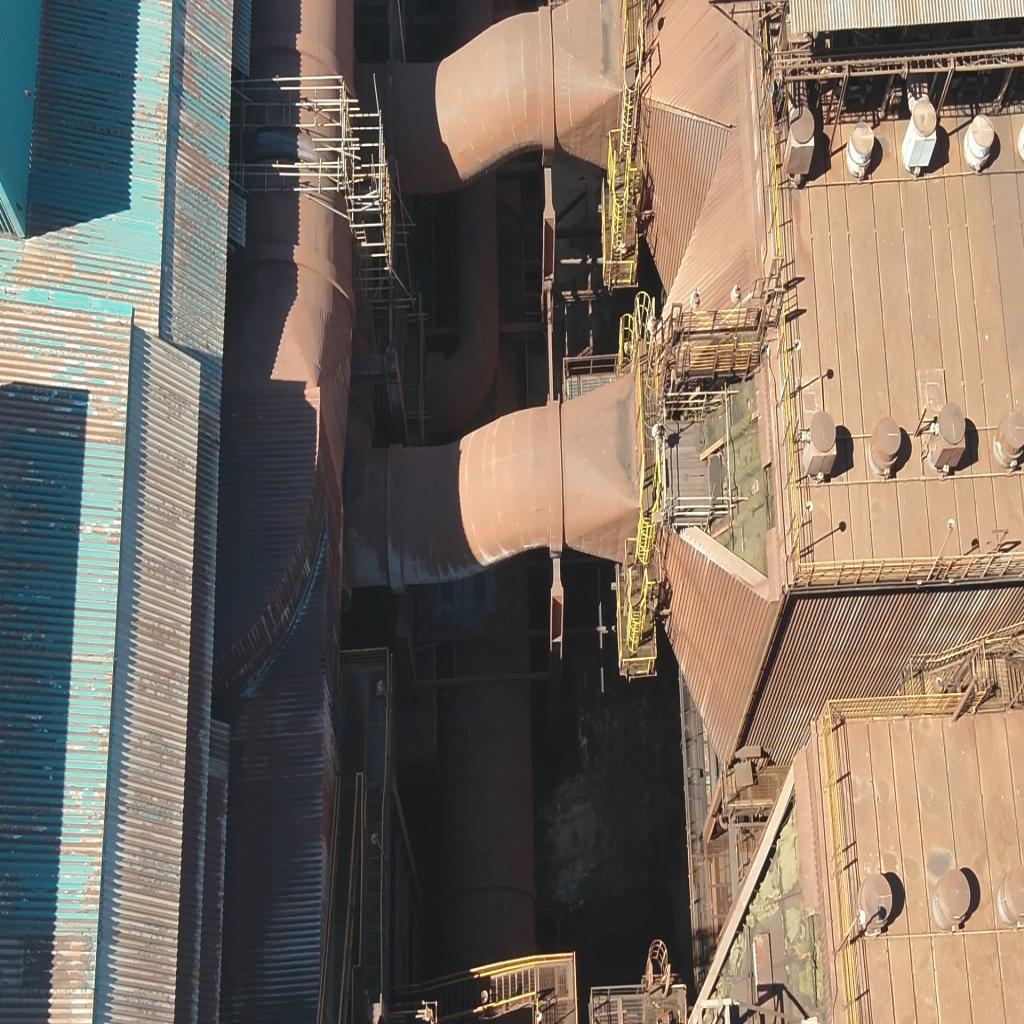Failures: (687, 360, 778, 572), (740, 834, 830, 1013)
